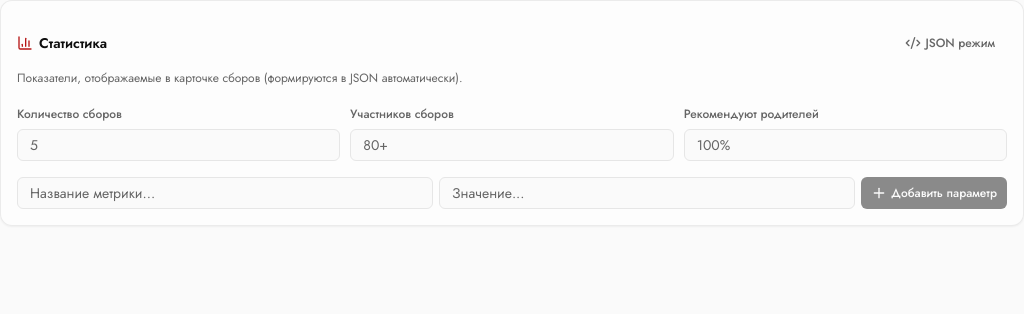
SmartInputs - ItemsArrayInput & StatsObjectInput › StatsObjectInput › allows adding custom key-value metrics and removing them
Type "medals" into the field with placeholder "Название метрики...". click: (225, 192)
box: [17, 176, 433, 208]
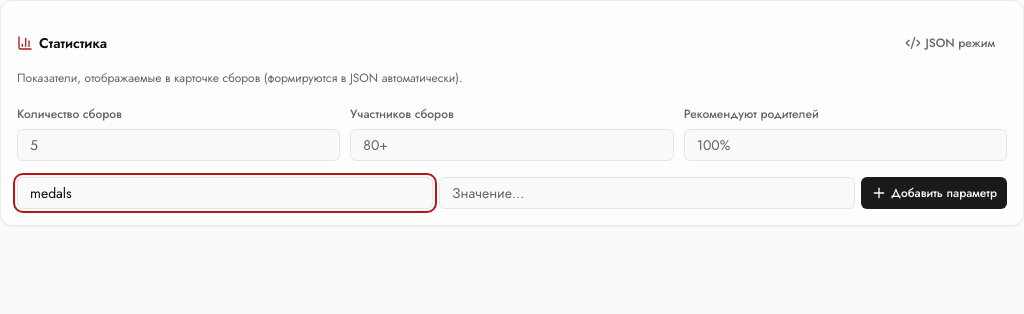
Type "15" into the field with placeholder "Значение...". click: (647, 192)
box: [439, 176, 855, 208]
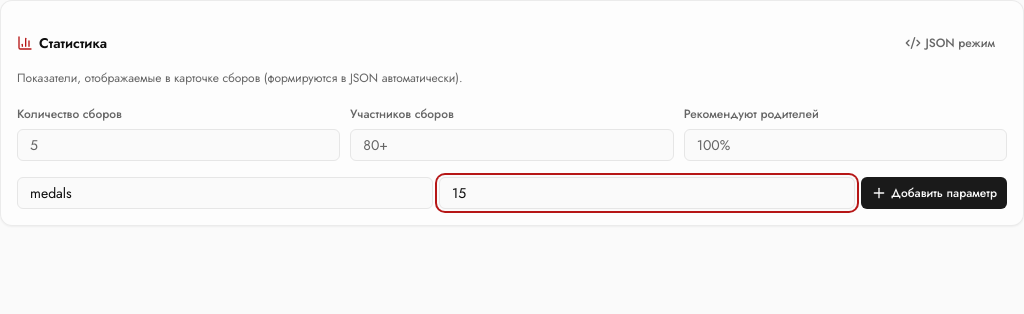
Click the button "Добавить параметр". click: (934, 192)
box: [861, 176, 1007, 208]
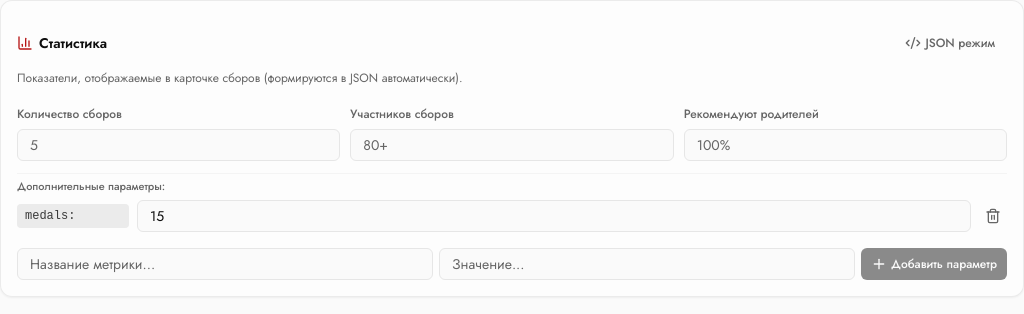
Result: the text "medals:" is shown at [17, 204, 129, 228]
Result: the field showing "15" is shown at [137, 200, 971, 232]
